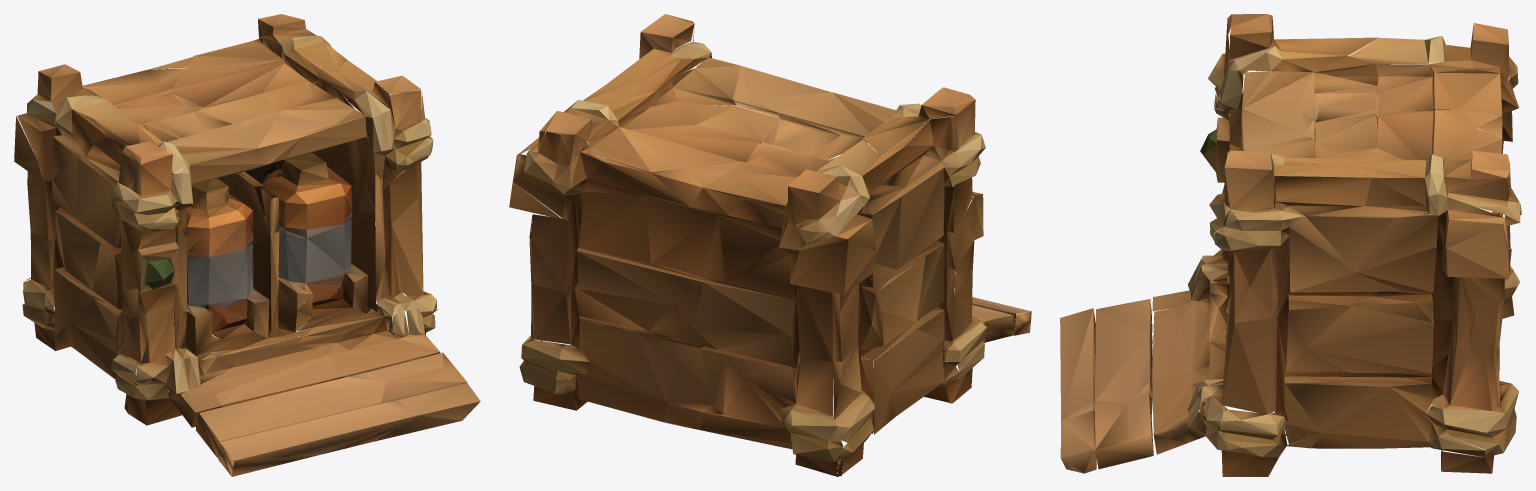
File: building-windmill-chargeBox.glb
3 views of the same model, side by side, from view 1: azimuth 30°, elevation 25°; view 2: azimuth 150°, elevation 25°; view 3: azimuth 270°, elevation 25° (orthographic). The views are drawn at different scales.
Parts seen in each view (by area): view 1: 0_windmill-chargeBox; view 2: 0_windmill-chargeBox; view 3: 0_windmill-chargeBox.
Boxes of the visible parts, x1,y1,x2,y2 form: 0_windmill-chargeBox: [14, 14, 480, 476]; 0_windmill-chargeBox: [509, 14, 1031, 476]; 0_windmill-chargeBox: [1060, 14, 1521, 476].
Bounding box in the file's own units: 0.535 × 0.4561 × 0.6.
